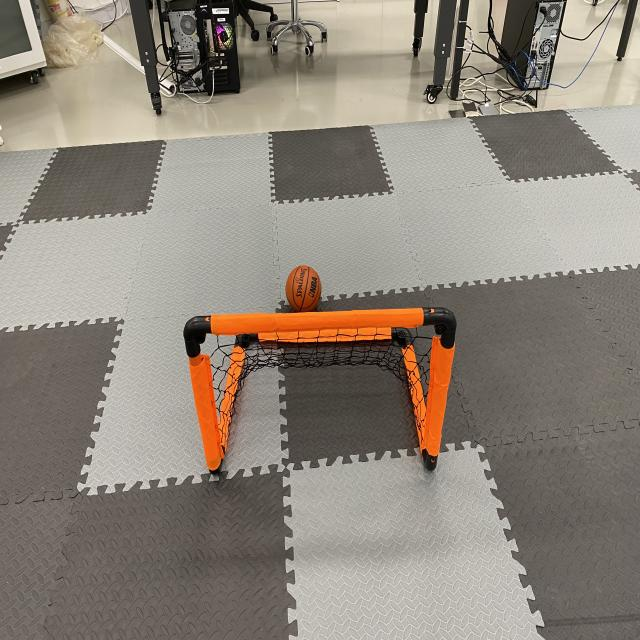ball: (282, 261, 325, 317)
gate: (179, 302, 460, 486)
